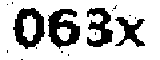0: (11, 4, 45, 51)
3: (85, 7, 113, 51)
6: (48, 7, 82, 49)
x: (115, 16, 145, 50)
